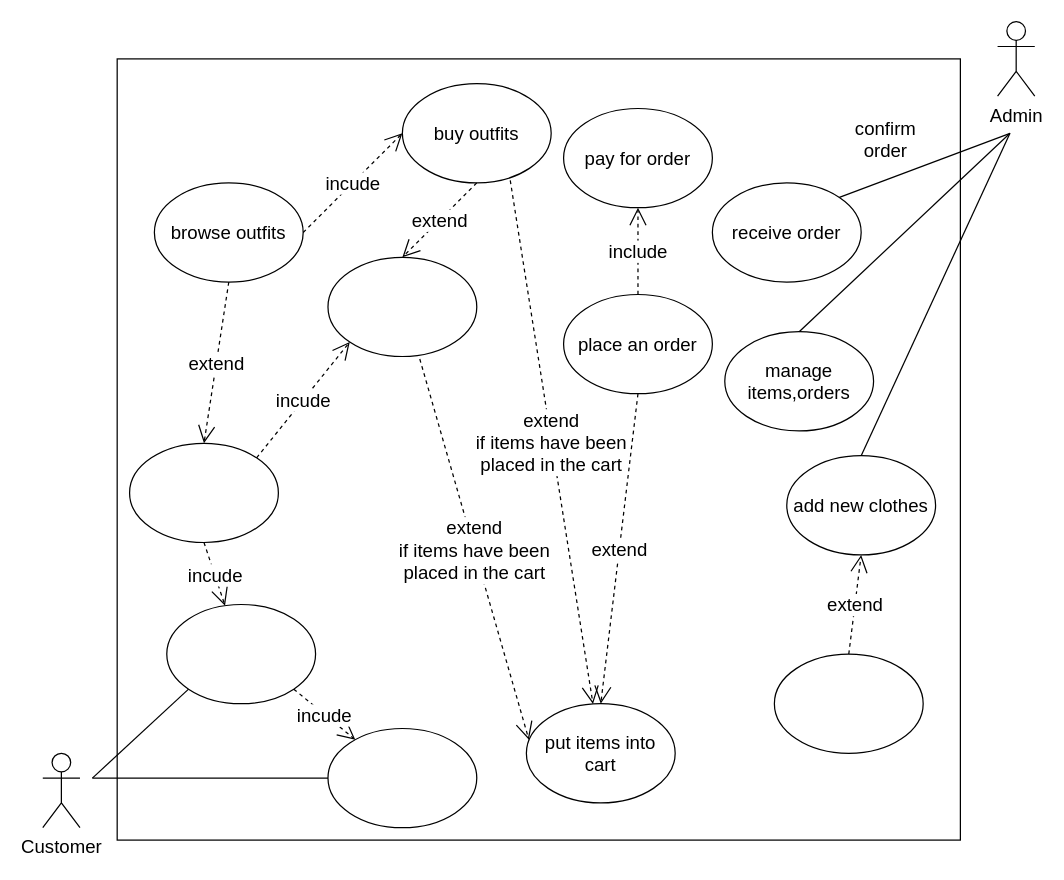
Some shapes in this 1064 by 880 pixel diagram are drawn without their labels. The centre of each missing label's shape, as x and y in pixels:
"add new outfits" belongs at [848,703].
"browse clothes" belongs at [203,492].
"buy clothes" belongs at [402,306].
"login" belongs at [241,653].
"register" belongs at [402,777].
